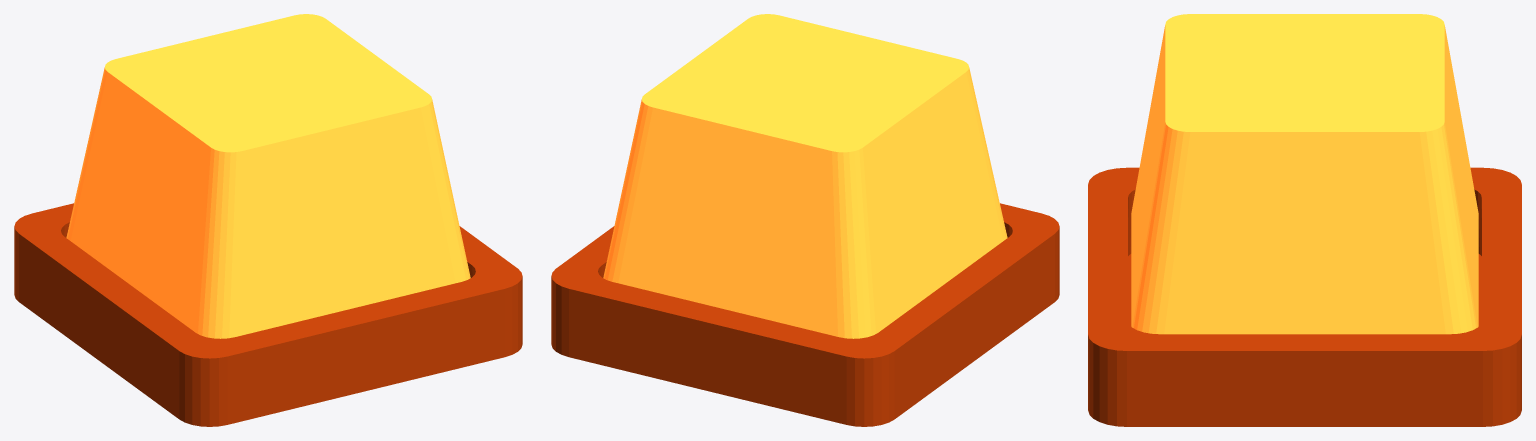
Rendered from button.glb.
3 renders of one model, left to right at view 1: azimuth 30°, elevation 25°; view 2: azimuth 150°, elevation 25°; view 3: azimuth 270°, elevation 25°, orthographic. The views are drawn at different scales.
Visible parts, largest first — view 1: top, bot; view 2: top, bot; view 3: top, bot.
Boxes of the visible parts, x1,y1,x2,y2 form: top: (66, 14, 470, 338); bot: (14, 203, 522, 426); top: (603, 14, 1007, 338); bot: (551, 203, 1059, 426); top: (1131, 14, 1478, 334); bot: (1088, 167, 1521, 426).
Bounding box in the file's own units: 2 × 1.33 × 2.
